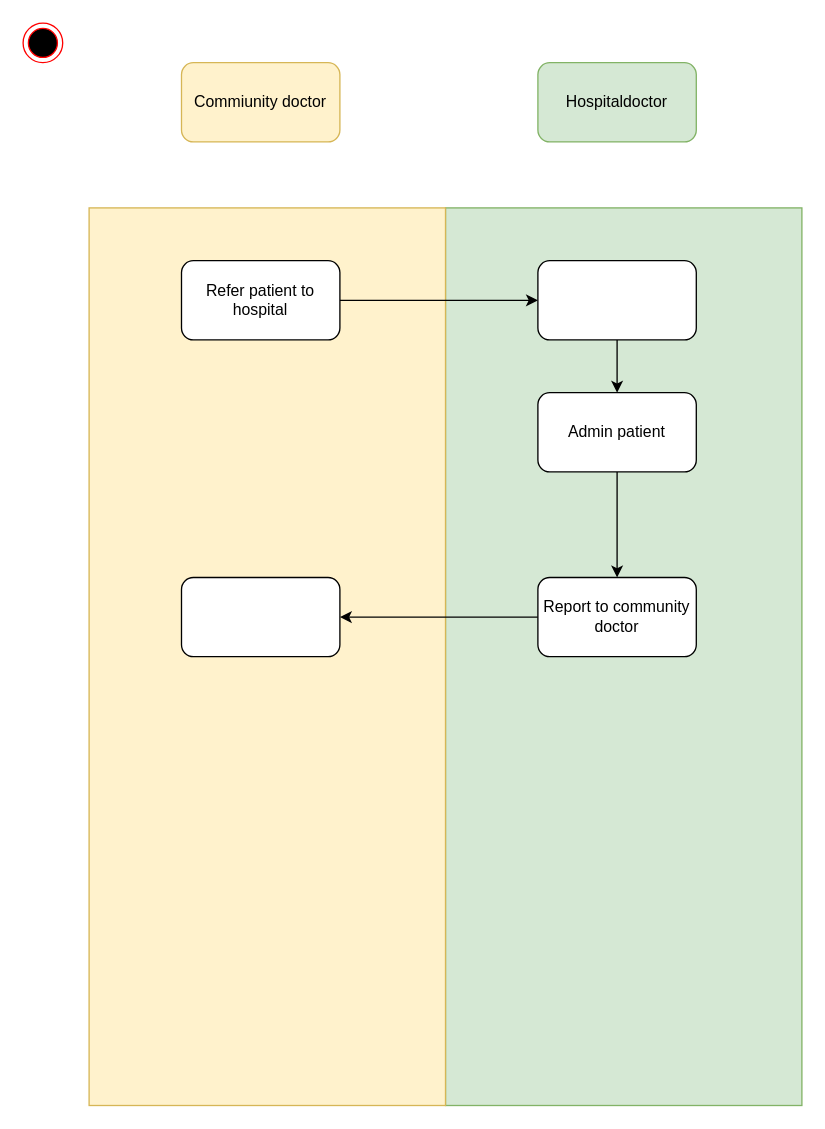
Image size: 825x1129. Some labels were removed from this diagram. Each missing label, with the box of its shape:
diagonosis: (537, 259, 696, 340)
Recieve report: (180, 576, 340, 657)
